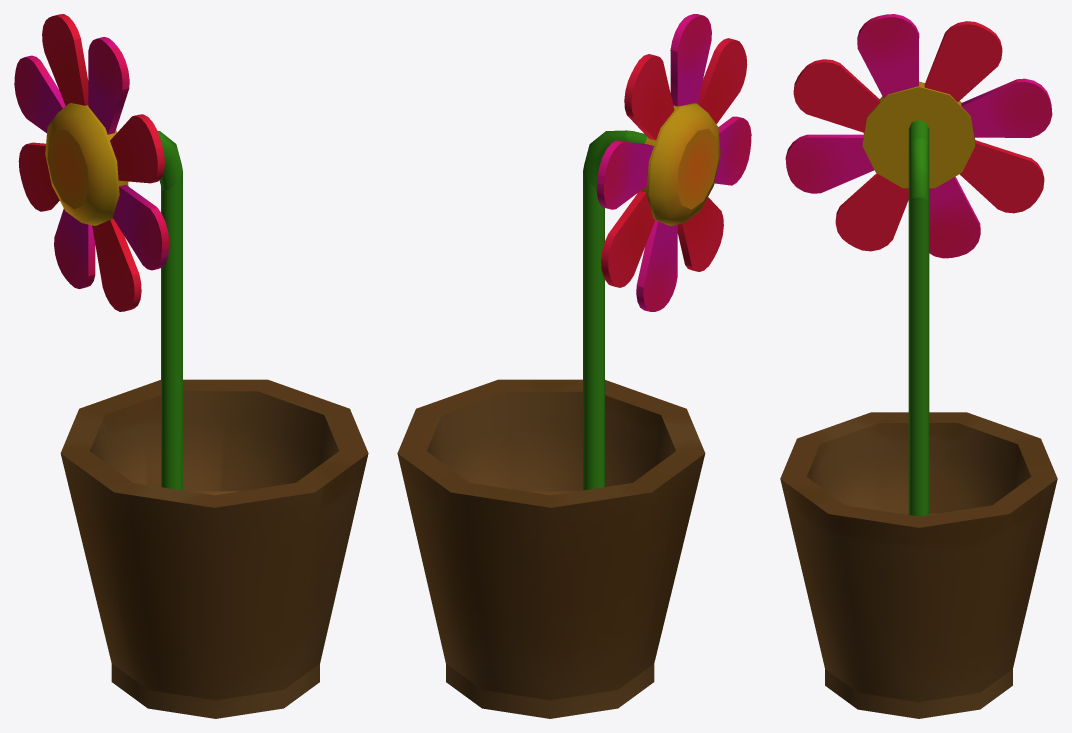
File: uploads_files_311250_flower+with+textures+handpainted.fbx
The picture shows the model from 3 angles, left to right: view 1: azimuth 30°, elevation 25°; view 2: azimuth 150°, elevation 25°; view 3: azimuth 270°, elevation 25°; orthographic projection. The views are drawn at different scales.
Parts seen in each view (by area): view 1: bucket, Sweep, flower_head, Cube_6, Cube_4, Cube_7, Cube_3, Cube_5, Cube_8, Cube_2, Cube_1; view 2: bucket, Sweep, flower_head, Cube_1, Cube_6, Cube_7, Cube_2, Cube_8, Cube_5, Cube_3, Cube_4; view 3: bucket, Sweep, flower_head, Cube_8, Cube_5, Cube_4, Cube_7, Cube_1, Cube_6, Cube_3, Cube_2.
Part boxes in pixels (left/top/right/bottom): bucket: left=60, top=379, right=368, bottom=718; Sweep: left=157, top=131, right=182, bottom=490; flower_head: left=45, top=103, right=128, bottom=225; Cube_6: left=88, top=37, right=129, bottom=134; Cube_4: left=112, top=185, right=169, bottom=270; Cube_7: left=42, top=14, right=88, bottom=105; Cube_3: left=92, top=219, right=141, bottom=311; Cube_5: left=110, top=114, right=164, bottom=183; Cube_8: left=14, top=55, right=65, bottom=133; Cube_2: left=54, top=208, right=95, bottom=288; Cube_1: left=18, top=142, right=59, bottom=211; bucket: left=397, top=379, right=705, bottom=718; Sweep: left=583, top=130, right=646, bottom=490; flower_head: left=640, top=103, right=720, bottom=225; Cube_1: left=601, top=191, right=655, bottom=287; Cube_6: left=670, top=14, right=711, bottom=106; Cube_7: left=624, top=54, right=674, bottom=140; Cube_2: left=636, top=220, right=677, bottom=311; Cube_8: left=596, top=140, right=653, bottom=209; Cube_5: left=697, top=38, right=747, bottom=123; Cube_3: left=677, top=197, right=723, bottom=271; Cube_4: left=714, top=116, right=751, bottom=185; bucket: left=780, top=412, right=1057, bottom=718; Sweep: left=908, top=120, right=929, bottom=516; flower_head: left=862, top=81, right=975, bottom=188; Cube_8: left=961, top=78, right=1052, bottom=137; Cube_5: left=793, top=59, right=879, bottom=132; Cube_4: left=785, top=134, right=874, bottom=193; Cube_7: left=924, top=21, right=1002, bottom=102; Cube_1: left=959, top=140, right=1044, bottom=213; Cube_6: left=857, top=14, right=919, bottom=98; Cube_3: left=835, top=173, right=908, bottom=251; Cube_2: left=929, top=176, right=980, bottom=258.
Size of the model in its own units: 257 by 588 by 243.
1 material, 1 textured.
